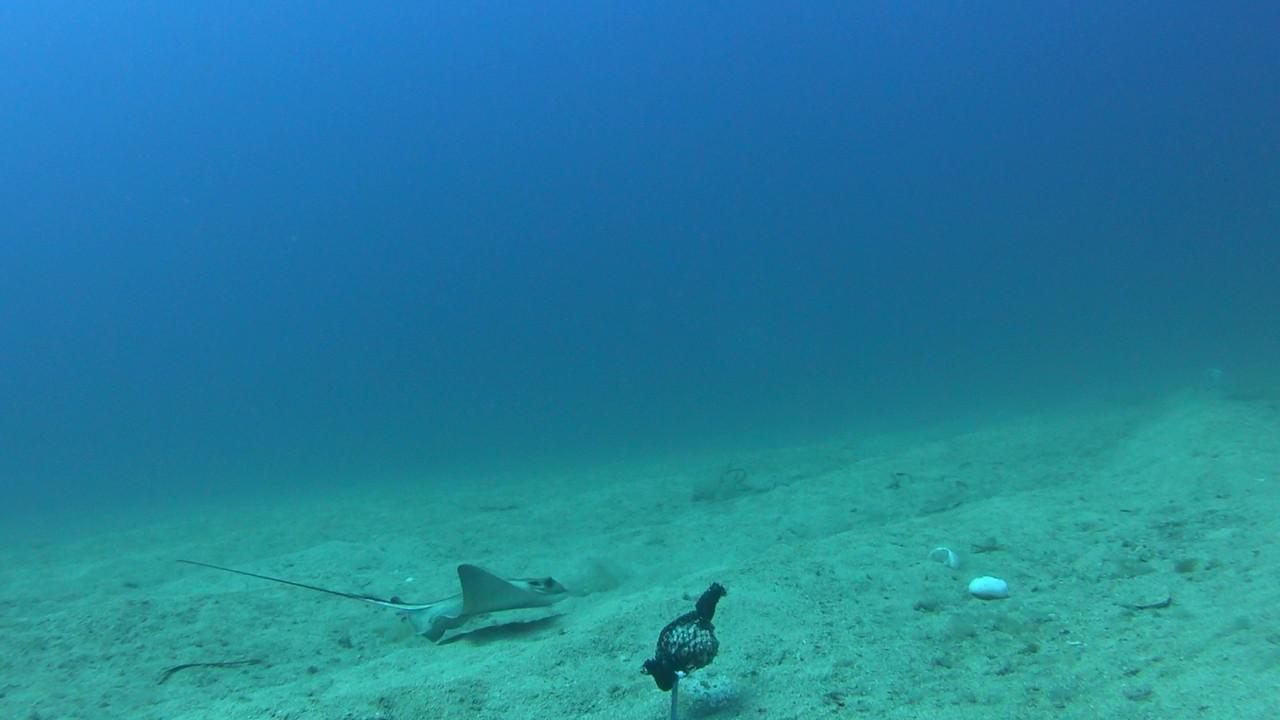myliobatis: (159, 530, 587, 641)
